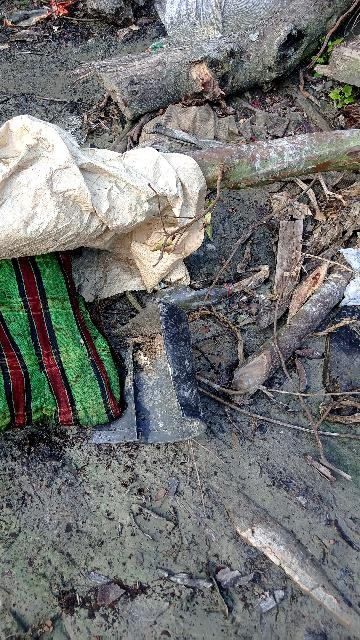hardplastic: (133, 295, 204, 443)
